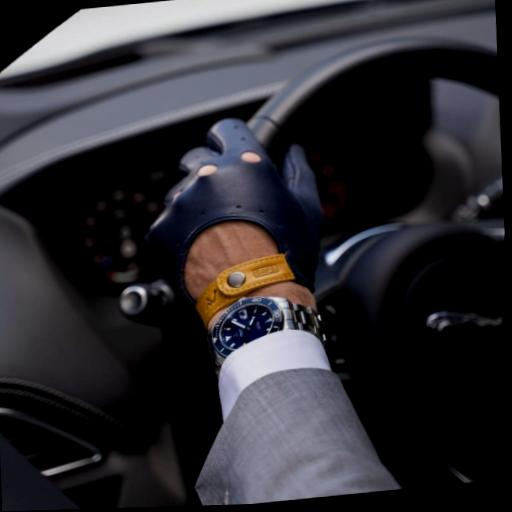Hands-on-the-Wheel: (79, 86, 373, 358)
